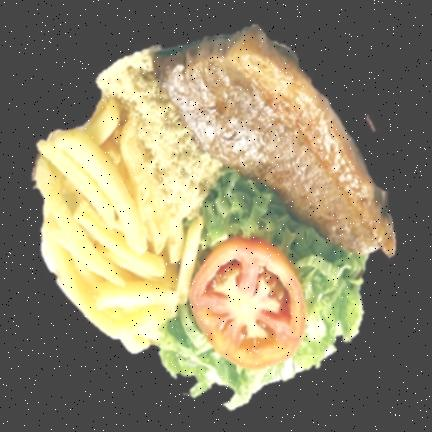meat: (154, 29, 395, 256)
potato: (35, 100, 202, 353)
salad: (201, 170, 366, 359), (160, 304, 284, 410)
tomato: (190, 237, 306, 370)
